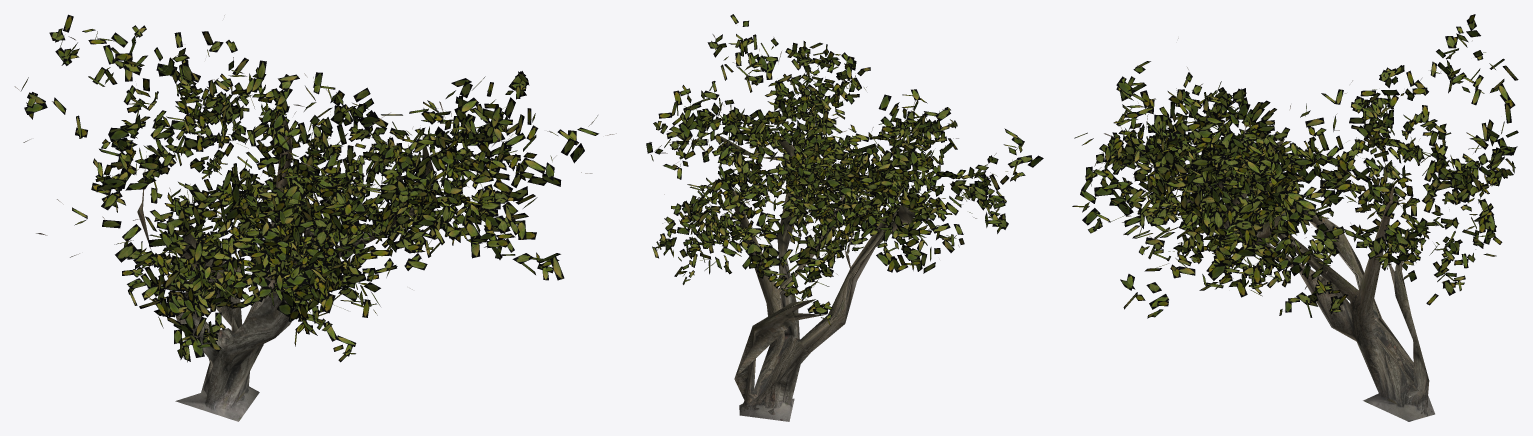
The model's file is island_tree_02.glb.
3 renders of one model, left to right at view 1: azimuth 30°, elevation 25°; view 2: azimuth 150°, elevation 25°; view 3: azimuth 270°, elevation 25°, orthographic. The views are drawn at different scales.
Bounding box in the file's own units: 4.21 × 3.41 × 4.04.
Materials: 3 (3 with a texture image).
